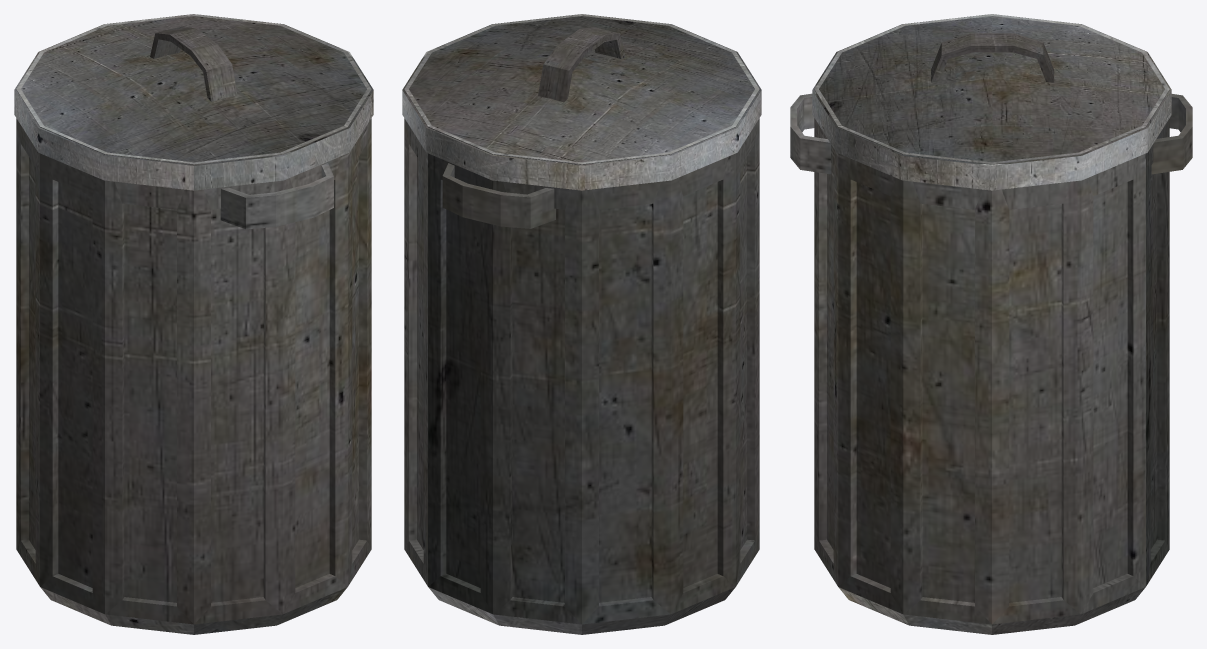
File: TrashCan.fbx
3 views of the same model, side by side, from view 1: azimuth 30°, elevation 25°; view 2: azimuth 150°, elevation 25°; view 3: azimuth 270°, elevation 25° (orthographic).
Visible parts, largest first — view 1: Cylinder014, Cylinder015; view 2: Cylinder014, Cylinder015; view 3: Cylinder014, Cylinder015.
Part boxes in pixels (box(x1,y1,x2,y2)): Cylinder014: box(16, 14, 371, 634); Cylinder015: box(14, 15, 373, 190); Cylinder014: box(404, 14, 759, 634); Cylinder015: box(402, 15, 761, 190); Cylinder014: box(790, 14, 1192, 634); Cylinder015: box(812, 14, 1171, 190).
Bounding box in the file's own units: 0.6089 × 0.9819 × 0.682.
